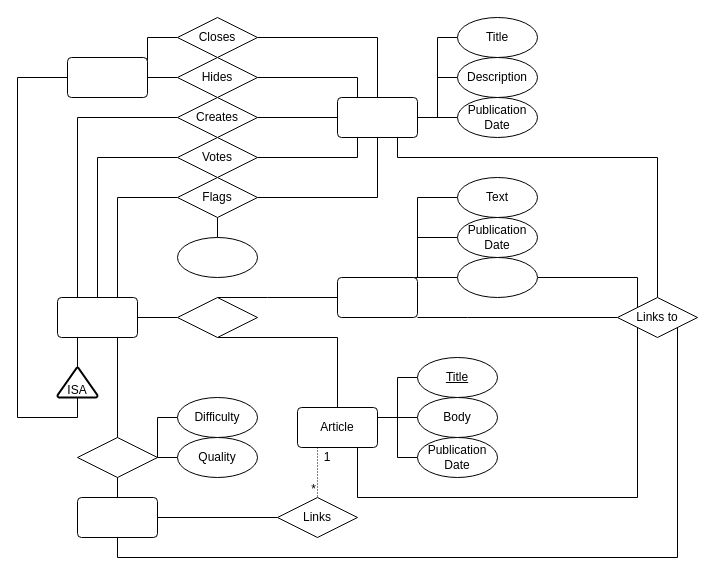
This 715x576 diagram has some shape labels left out. Each missing label, with the centre of its shape:
"Admin" belongs at point (107, 77).
"Keyword" belongs at point (217, 257).
"Link" belongs at point (497, 277).
"Rates" belongs at point (117, 457).
"Reaction" belongs at point (377, 297).
"Recipe" belongs at point (117, 517).
"Thread" belongs at point (377, 117).
"User" belongs at point (97, 317).
"Writes" belongs at point (217, 317).
